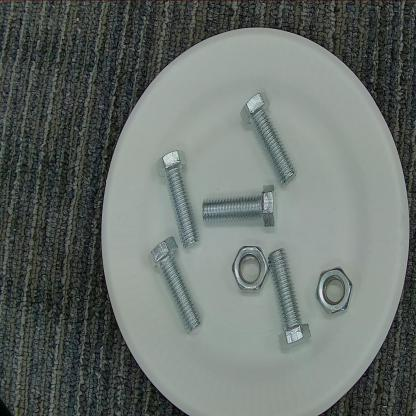FOD: (144, 236, 204, 337), (241, 86, 299, 190), (266, 250, 314, 358), (155, 148, 205, 250), (201, 182, 280, 224), (315, 264, 360, 316), (229, 242, 270, 295)
